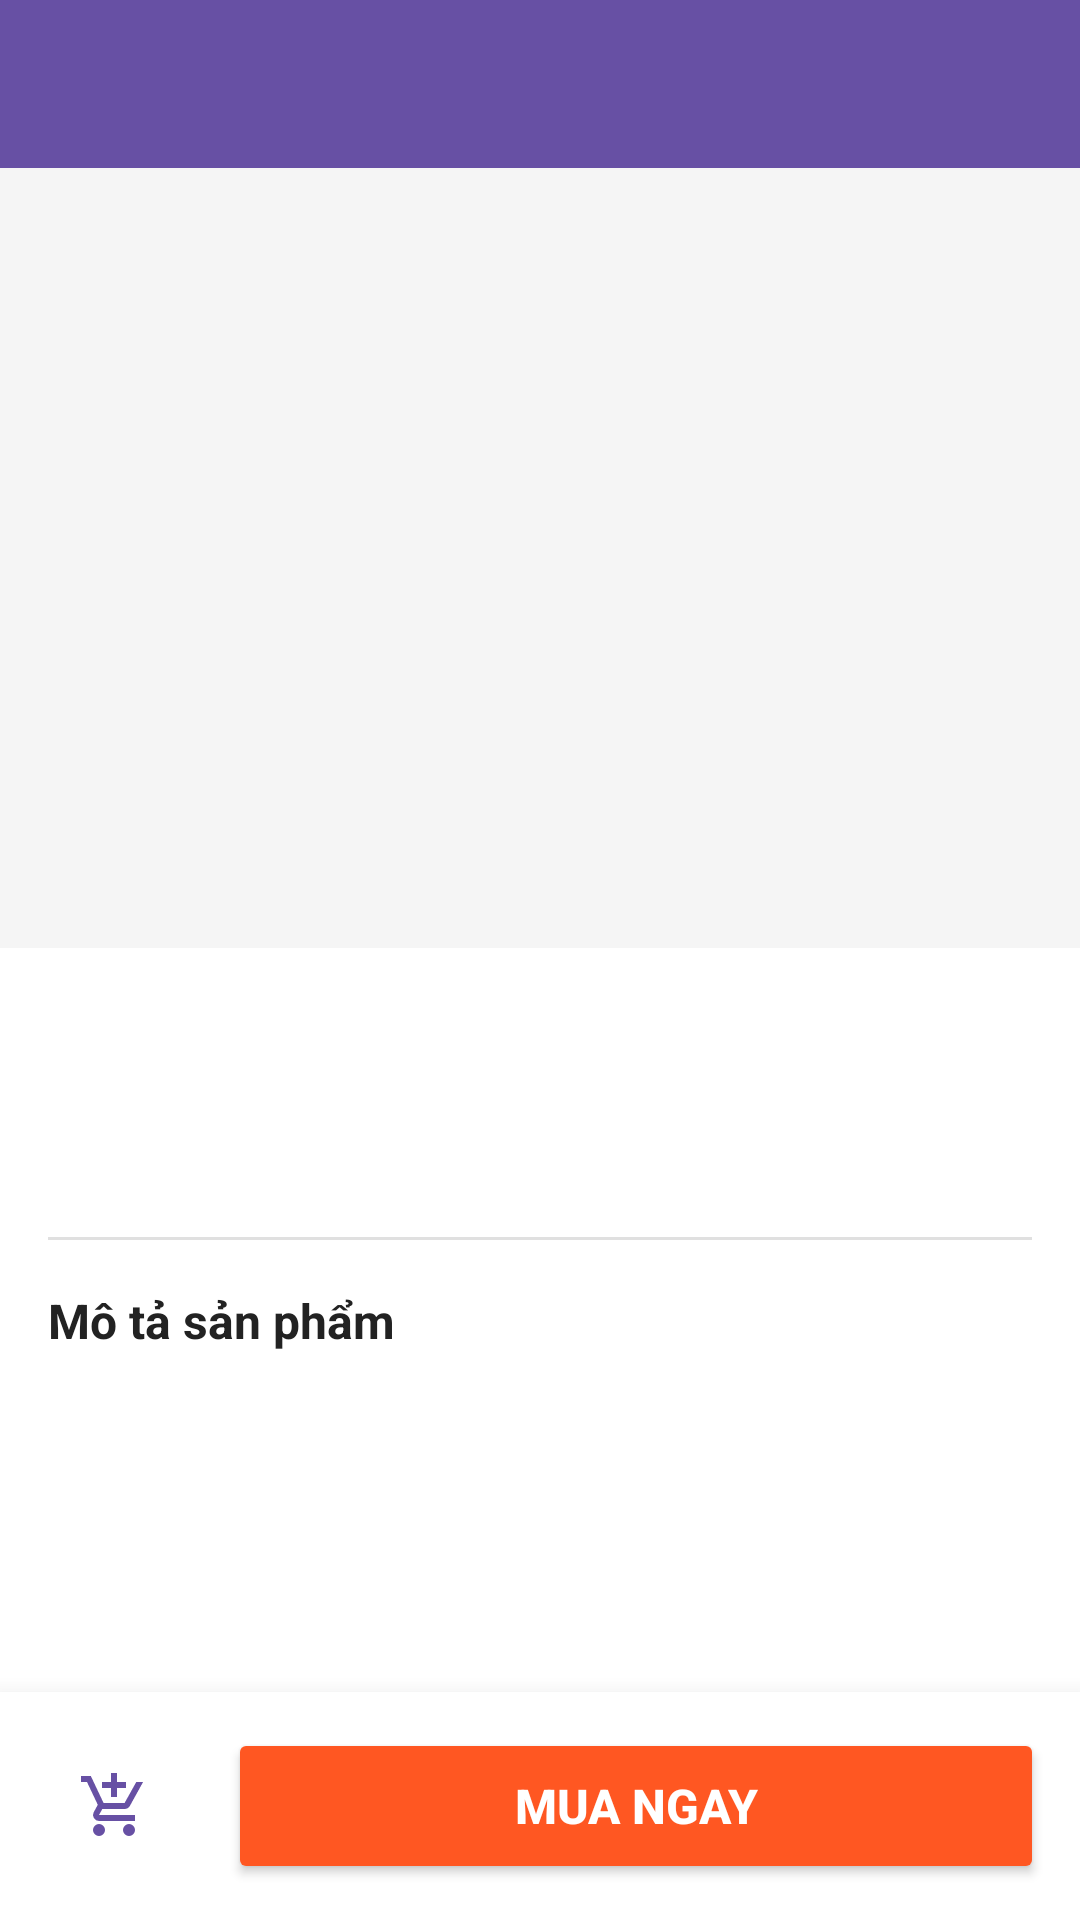

Icons on this 1080px×1920px Android screen, each with the point to tap as (x=x, y=y):
Add to cart: (x=112, y=1804)
